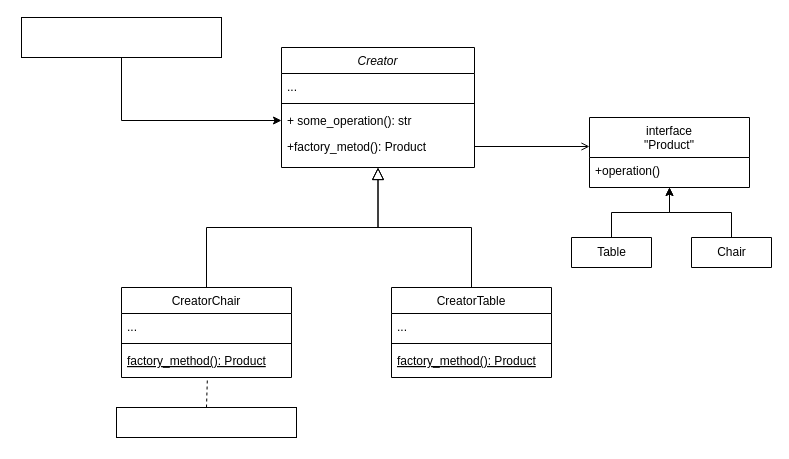
Image size: 789x459. Some labels were removed from this diagram. The shapes that lost their labels are listed below. From the top down, each one's centre as x and y in pixels, then its label:
At (121,37): "client_code(creator: Creator)".
At (206,422): "client_code(CreatorChair())".
